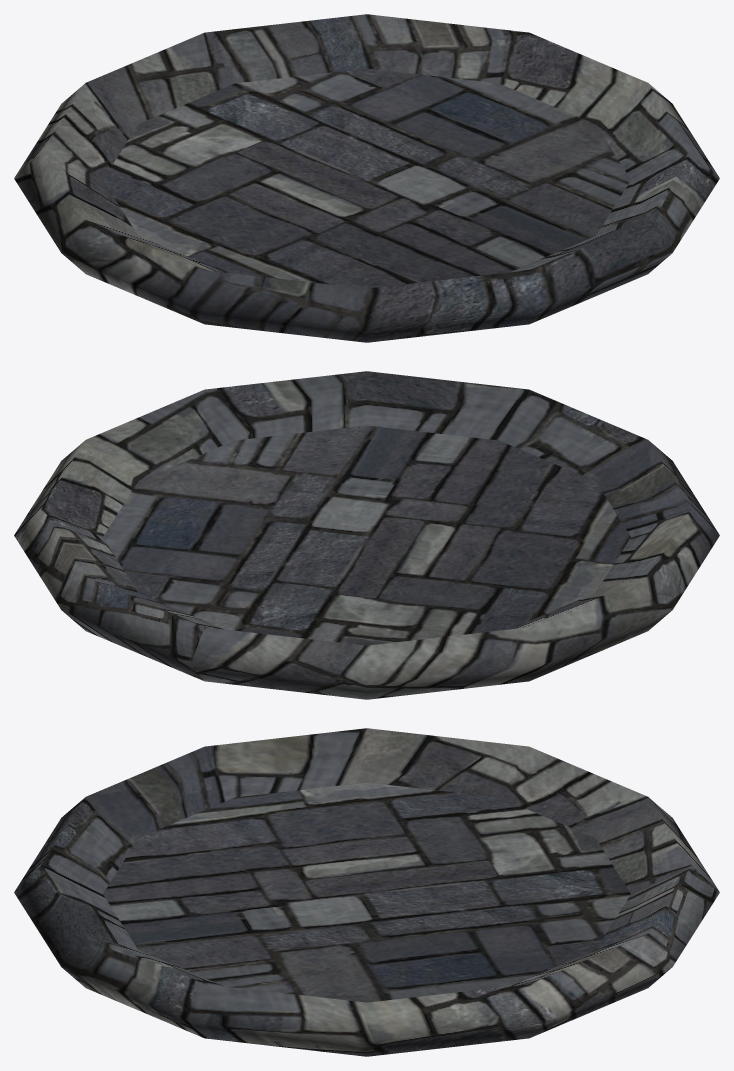
File: Sconce.fbx
3 views of the same model, one above another, from view 1: azimuth 30°, elevation 25°; view 2: azimuth 150°, elevation 25°; view 3: azimuth 270°, elevation 25° (orthographic).
Visible parts, largest first — view 1: Cylinder; view 2: Cylinder; view 3: Cylinder.
Boxes of the visible parts, x1,y1,x2,y2 form: Cylinder: (14,14,719,342); Cylinder: (14,371,719,699); Cylinder: (14,728,719,1056).
Size of the model in its own units: 217 by 34.74 by 217.
